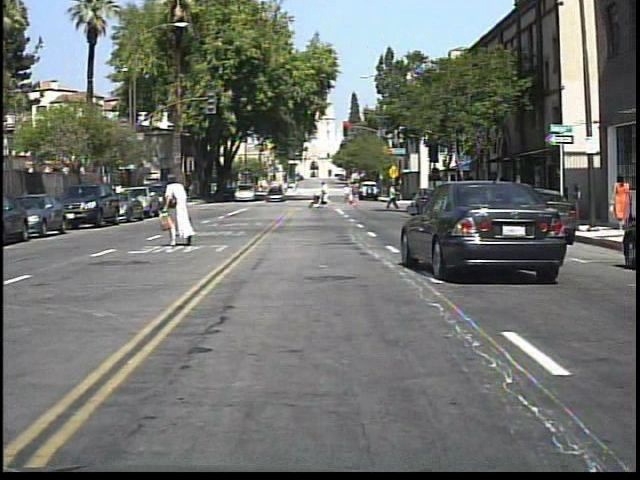person: (161, 168, 198, 251), (608, 167, 635, 231), (493, 170, 513, 220), (385, 182, 401, 212), (320, 181, 334, 210)
